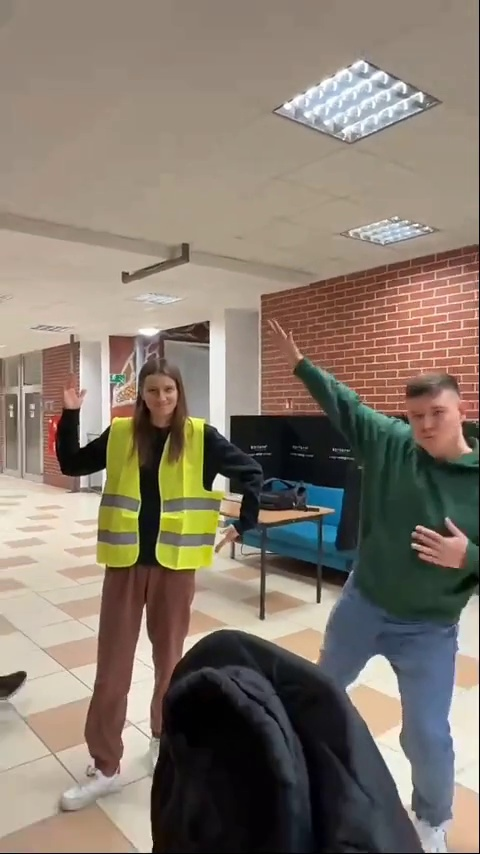no vest: (288, 342, 477, 832)
vest: (73, 354, 253, 815)
